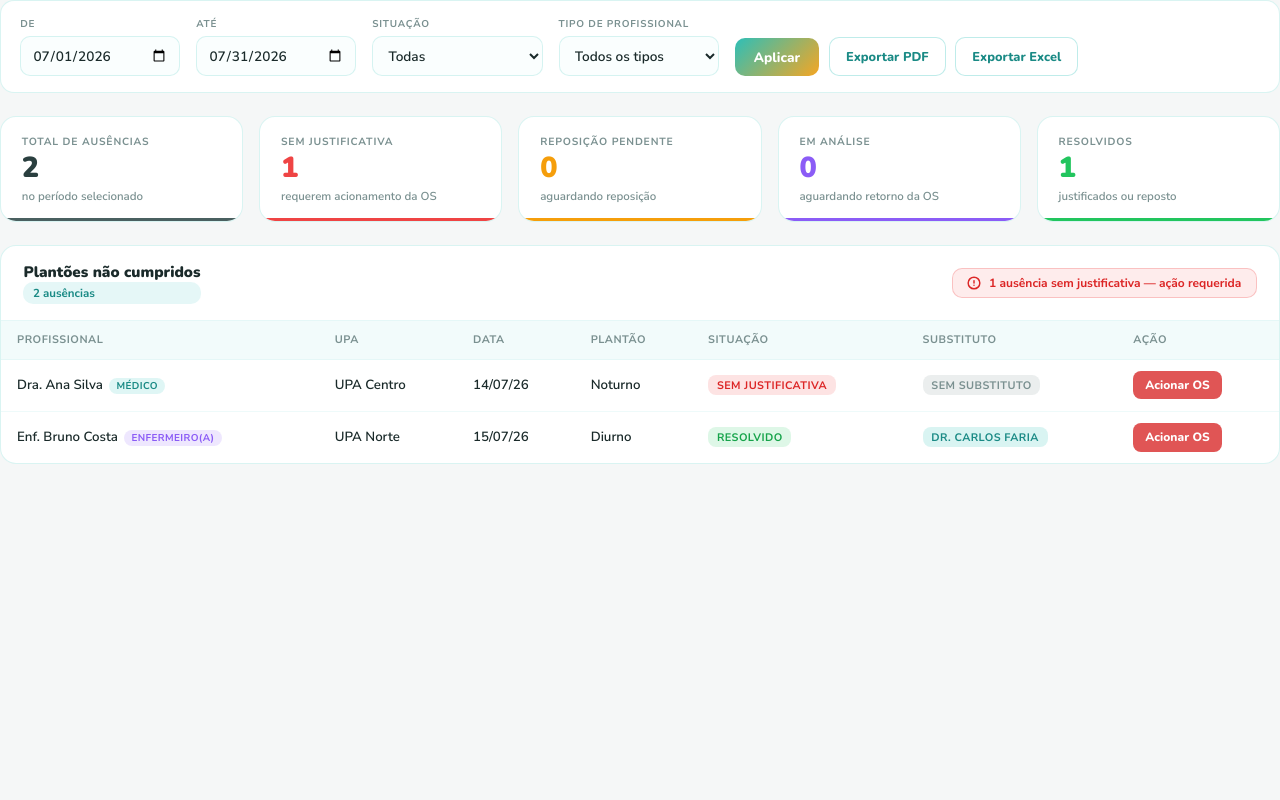
Scenario: <PrefeituraAusencias /> › após sucesso mostra toast e botão vira "Notificado" desabilitado
This screenshot has width=1280, height=800.
Click the button "Acionar OS" in the row of "Dra. Ana Silva": (1178, 385) [1133,371,1222,400]
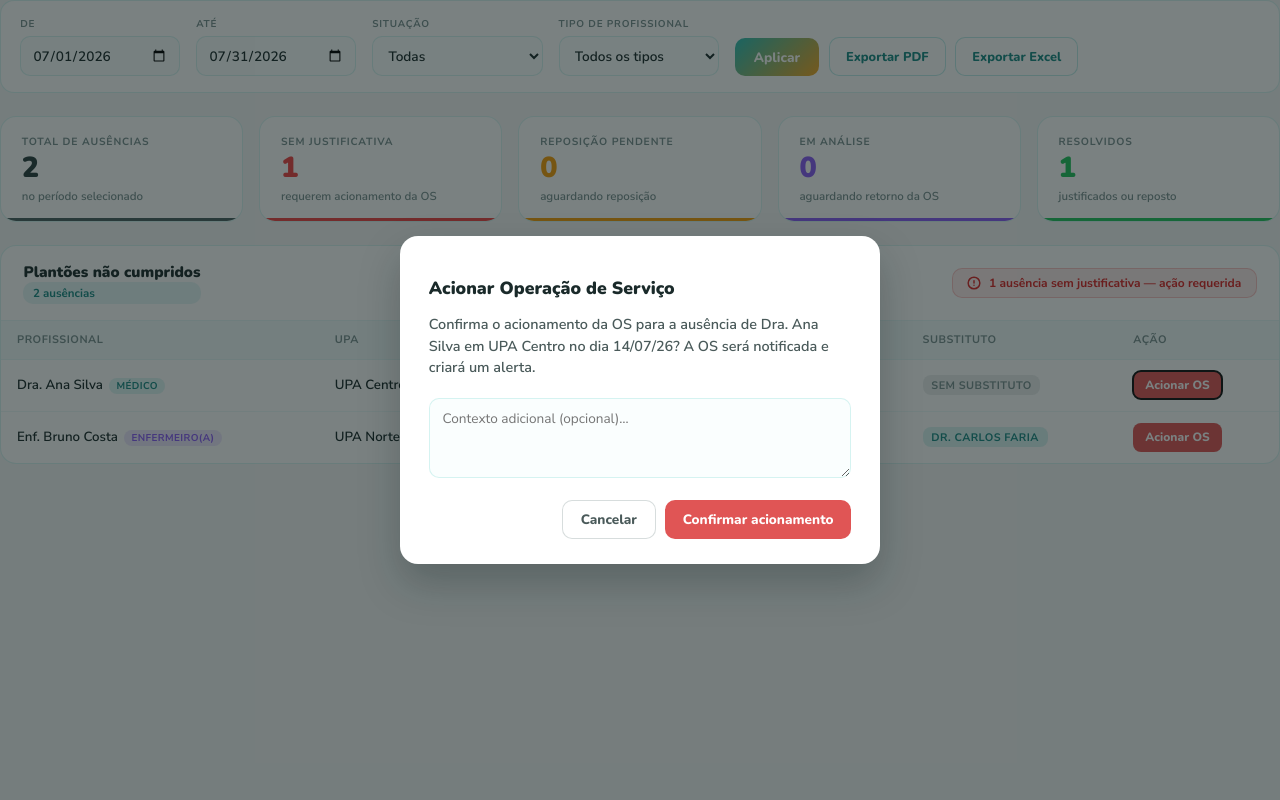
Click the button "Confirmar acionamento": (758, 520) [665,500,851,539]
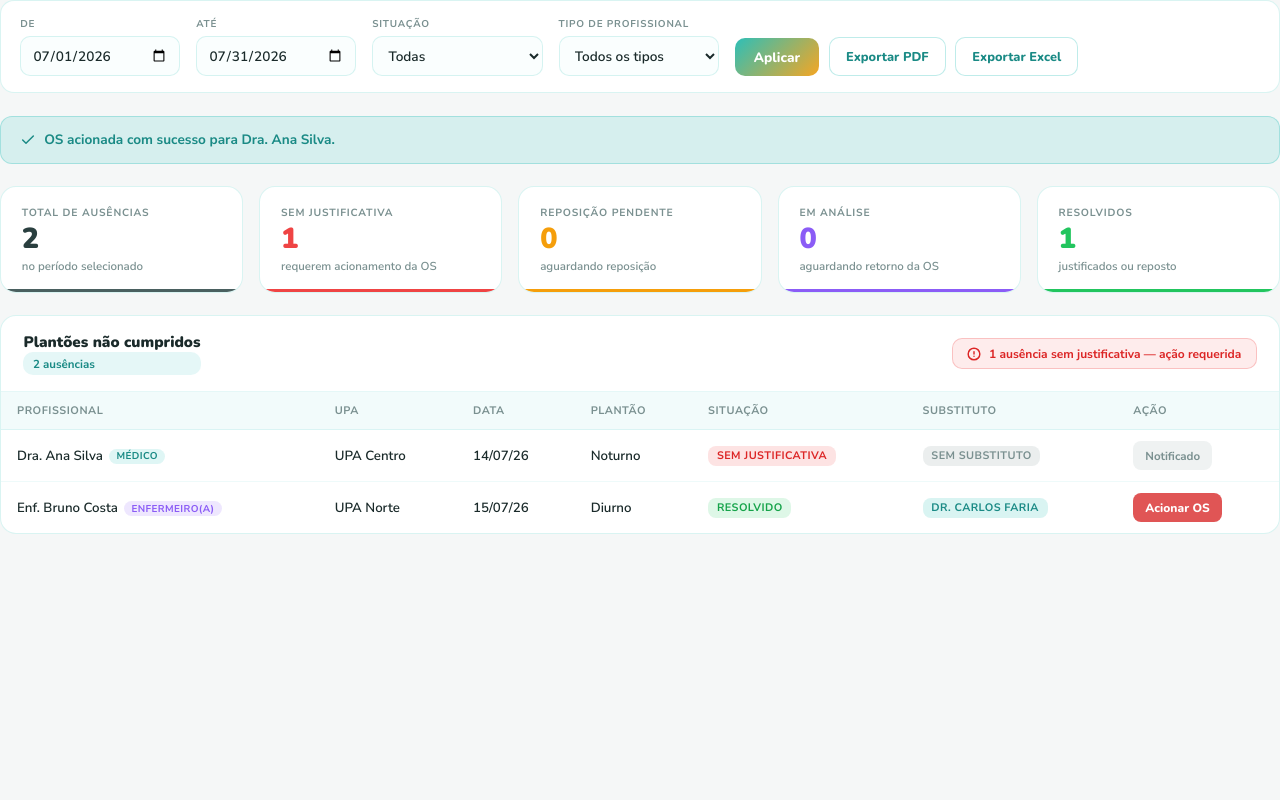
Expected: the message shows "OS acionada com sucesso para Dra. Ana Silva", [44,130,335,149]
Expected: the dialog is gone
Expected: the text "Notificado" is shown, [1133,441,1212,470]
